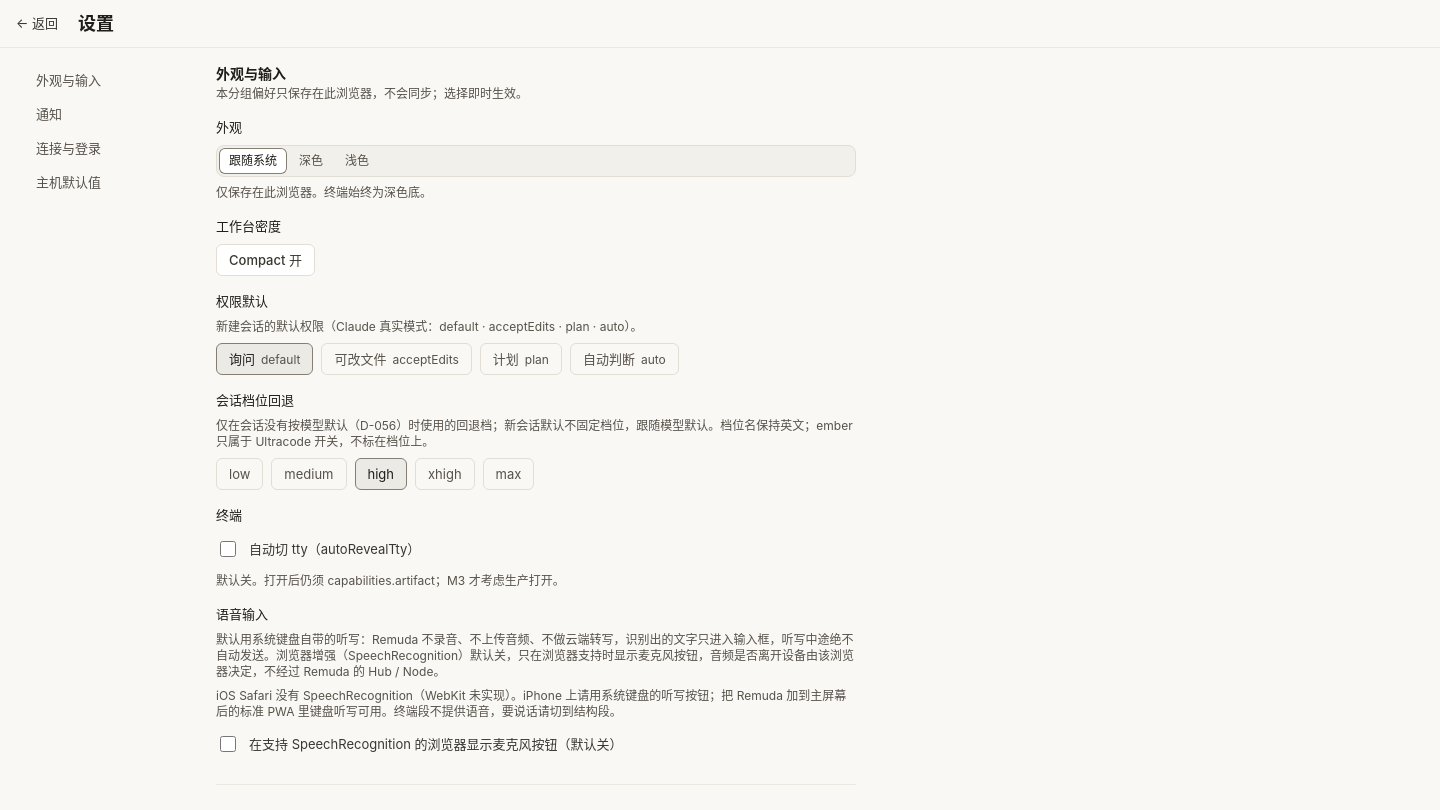
Test case: save states and rollback › marks a failed appearance save, rolls that field back, and keeps the error visible
The width and height of the screenshot is (1440, 810).
Click the radio button with test id "settings-appearance-light" at {"x": 357, "y": 161}, box [335,148,379,174]
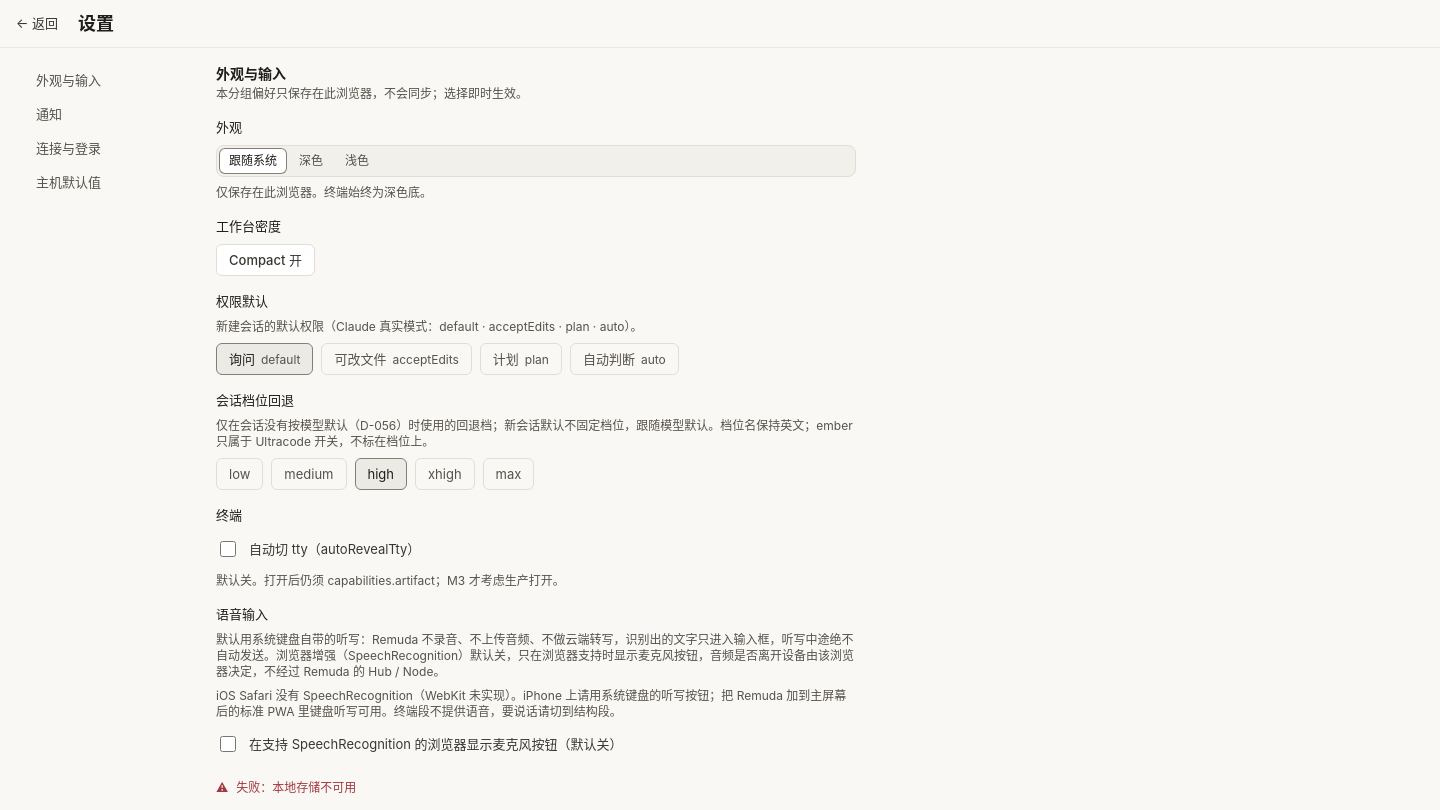
Expected: the message with test id "settings-appearance-status" shows "失败", [236,780,356,795]
